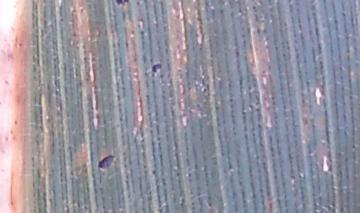tarspot: (98, 154, 115, 170), (152, 63, 161, 73), (116, 1, 130, 5)
